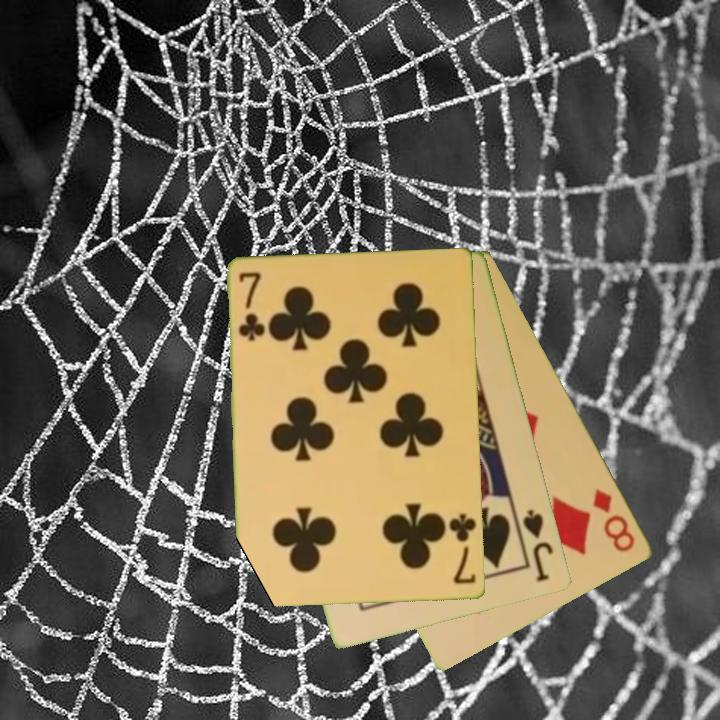7c: (446, 510, 480, 587), (235, 269, 266, 345)
8d: (589, 485, 639, 556)
Js: (519, 505, 557, 585)
